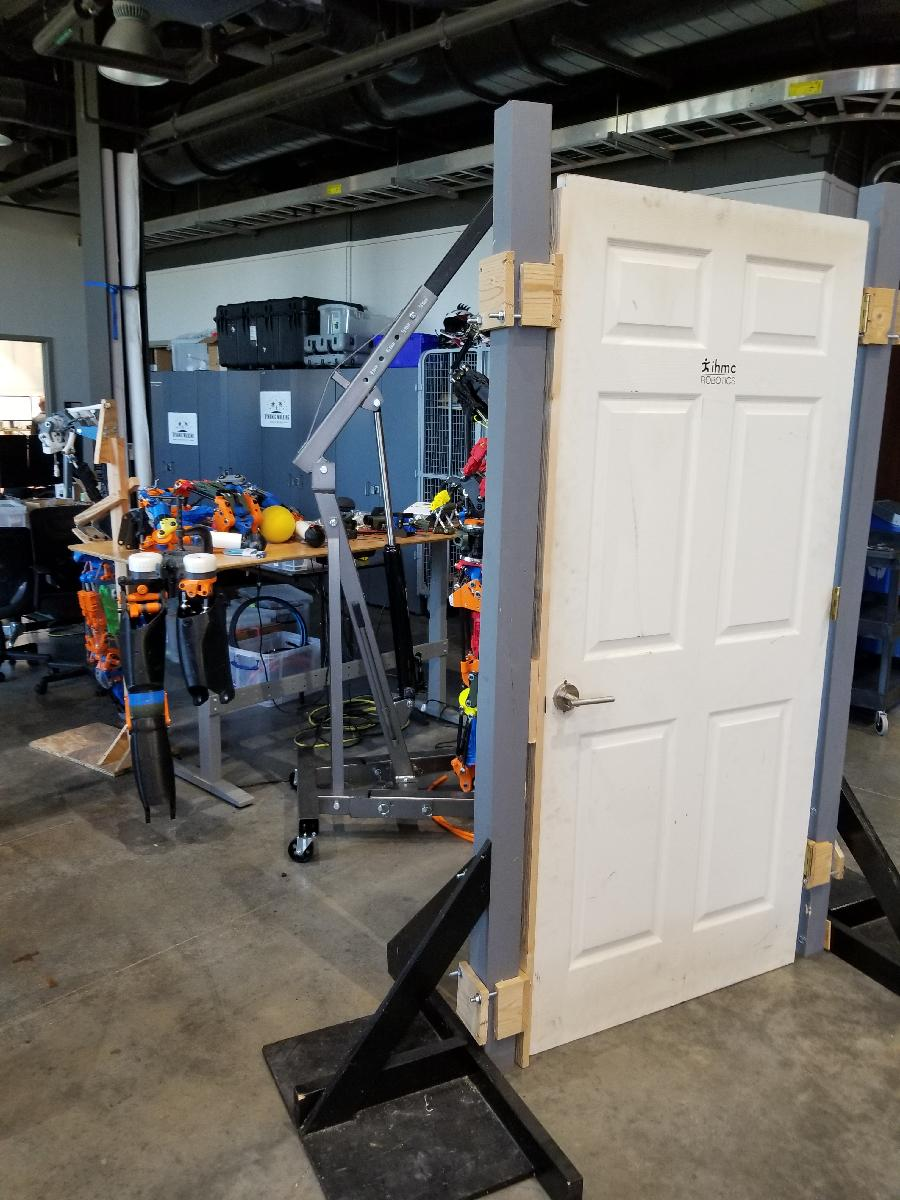door: (514, 168, 873, 1061)
doorHandle: (547, 680, 620, 718)
